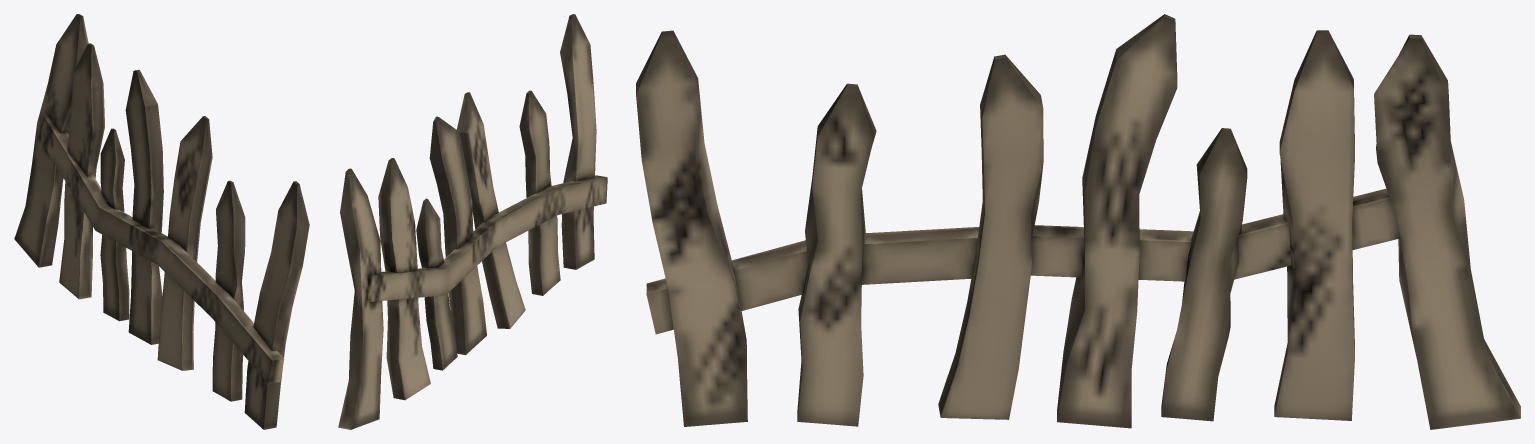
File: PickettFence_03.fbx
3 views of the same model, side by side, from view 1: azimuth 30°, elevation 25°; view 2: azimuth 150°, elevation 25°; view 3: azimuth 270°, elevation 25° (orthographic). The views are drawn at different scales.
Parts seen in each view (by area): view 1: PickettFence_03; view 2: PickettFence_03; view 3: PickettFence_03.
Boxes of the visible parts, box(x1,y1,x2,y2) form: PickettFence_03: box(14, 14, 309, 429); PickettFence_03: box(338, 14, 607, 429); PickettFence_03: box(636, 14, 1520, 429).
Size of the model in its own units: 13.88 by 69.74 by 133.
